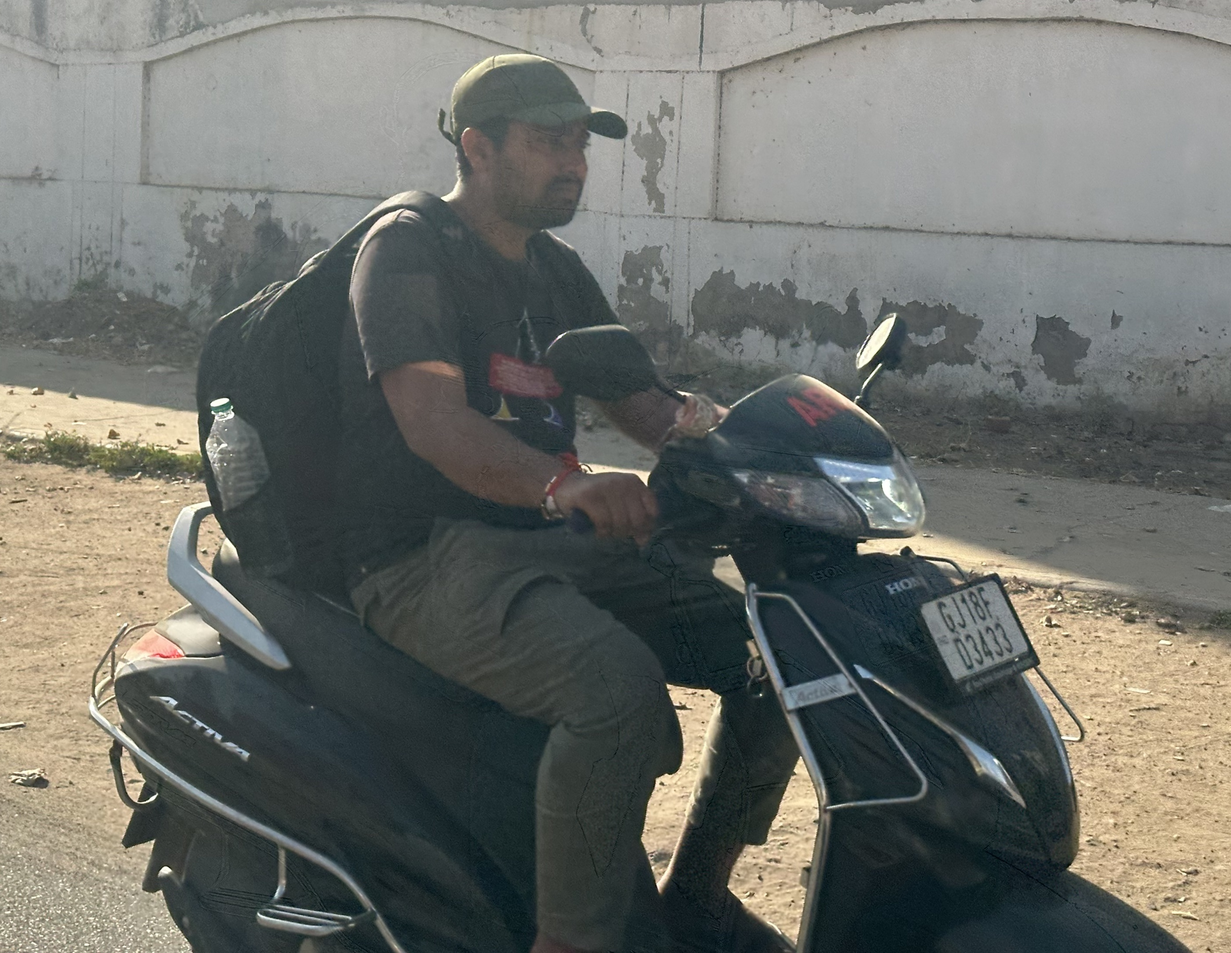BikeWithRider: (74, 40, 1138, 952)
NoHelmet: (423, 44, 633, 235)
